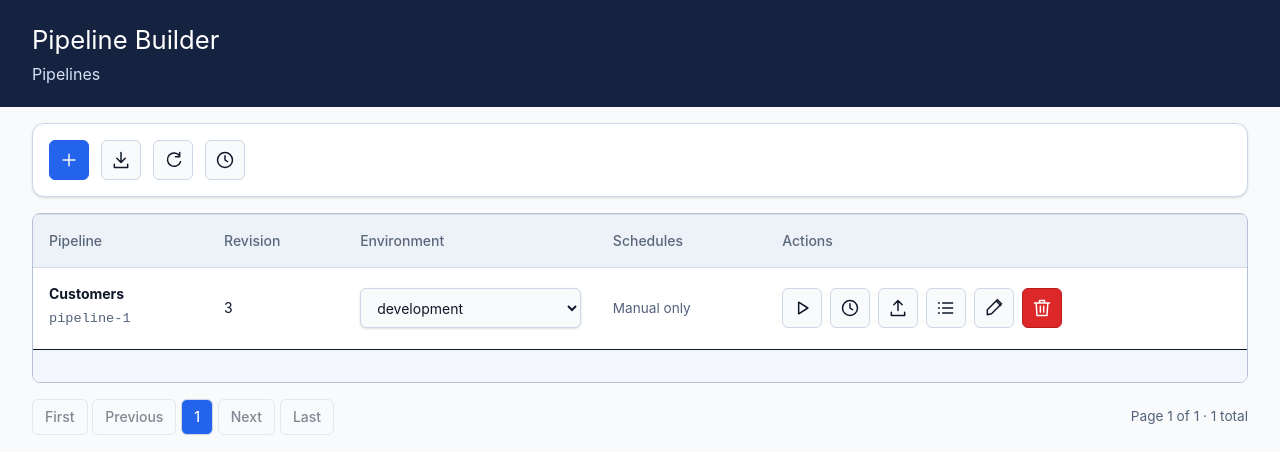
Scenario: exports the latest saved pipeline from its row
This screenshot has width=1280, height=452.
Expected: the text "Customers" is shown, [49,285,124,302]
Click the button named "Export Customers as JSON" at (898, 308), box [878,288,918,328]
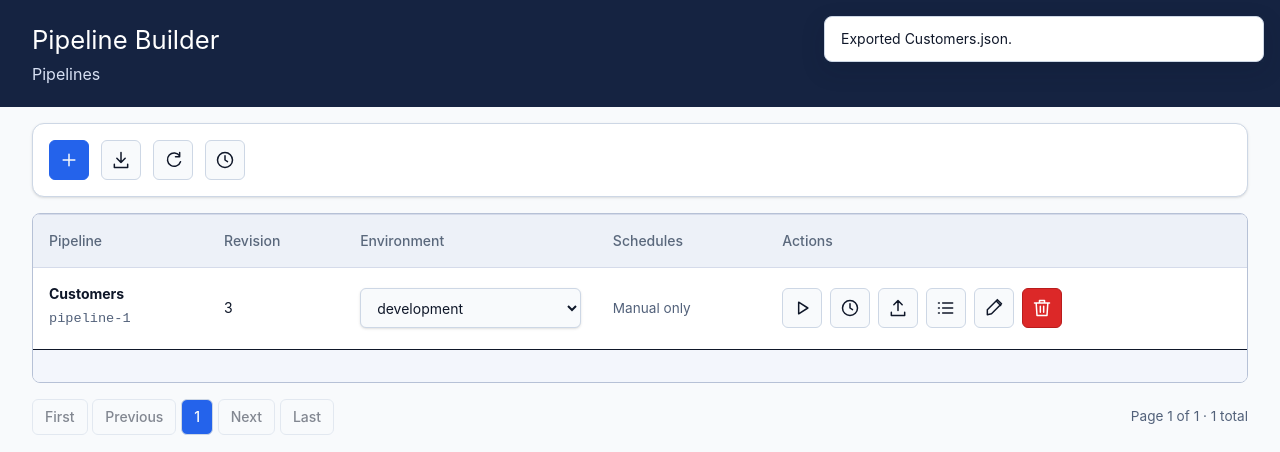
Expected: the text "Exported Customers.json." is shown, [824,16,1264,62]
